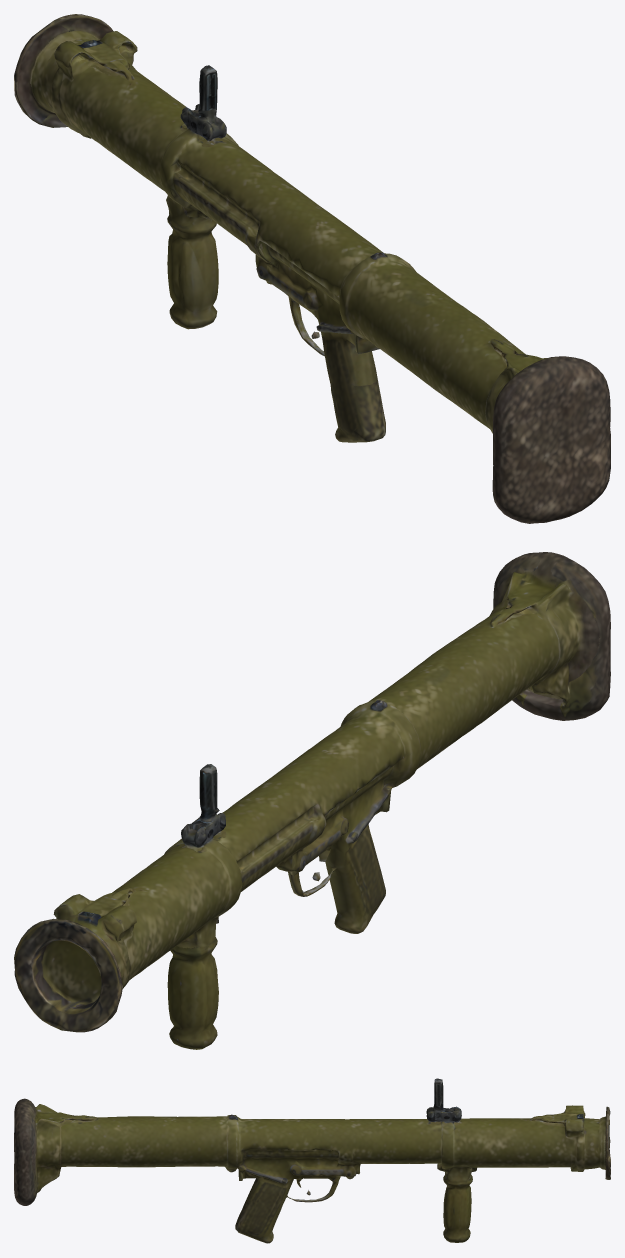
Rendered from SM_WP_Bazooka_Varco.fbx.
3 renders of one model, top to bottom at view 1: azimuth 30°, elevation 25°; view 2: azimuth 150°, elevation 25°; view 3: azimuth 270°, elevation 25°, orthographic. The views are drawn at different scales.
Visible parts, largest first — view 1: texture_mapping; view 2: texture_mapping; view 3: texture_mapping.
Boxes of the visible parts, x1,y1,x2,y2 form: texture_mapping: (14,14,610,523); texture_mapping: (14,552,610,1049); texture_mapping: (14,1078,610,1243).
Bounding box in the file's own units: 0.133 × 0.9984 × 0.2997.
1 material, 1 textured.
